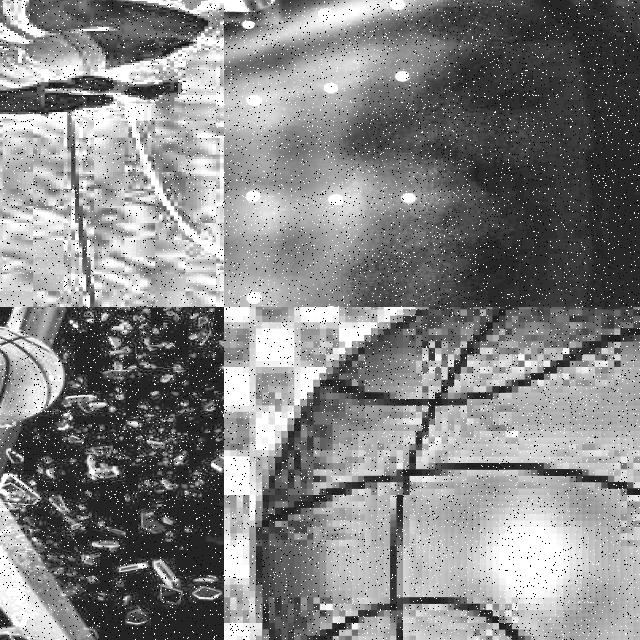Basketball: (256, 307, 640, 640), (0, 327, 65, 423)
